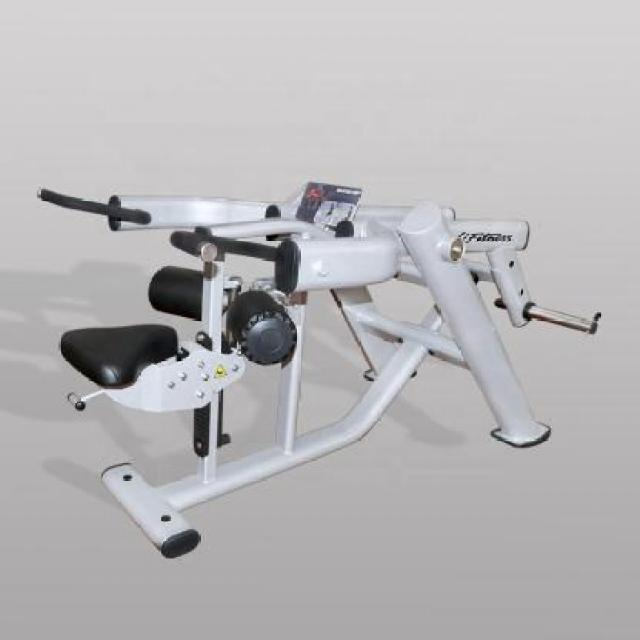seated dip machine: (40, 183, 603, 559)
